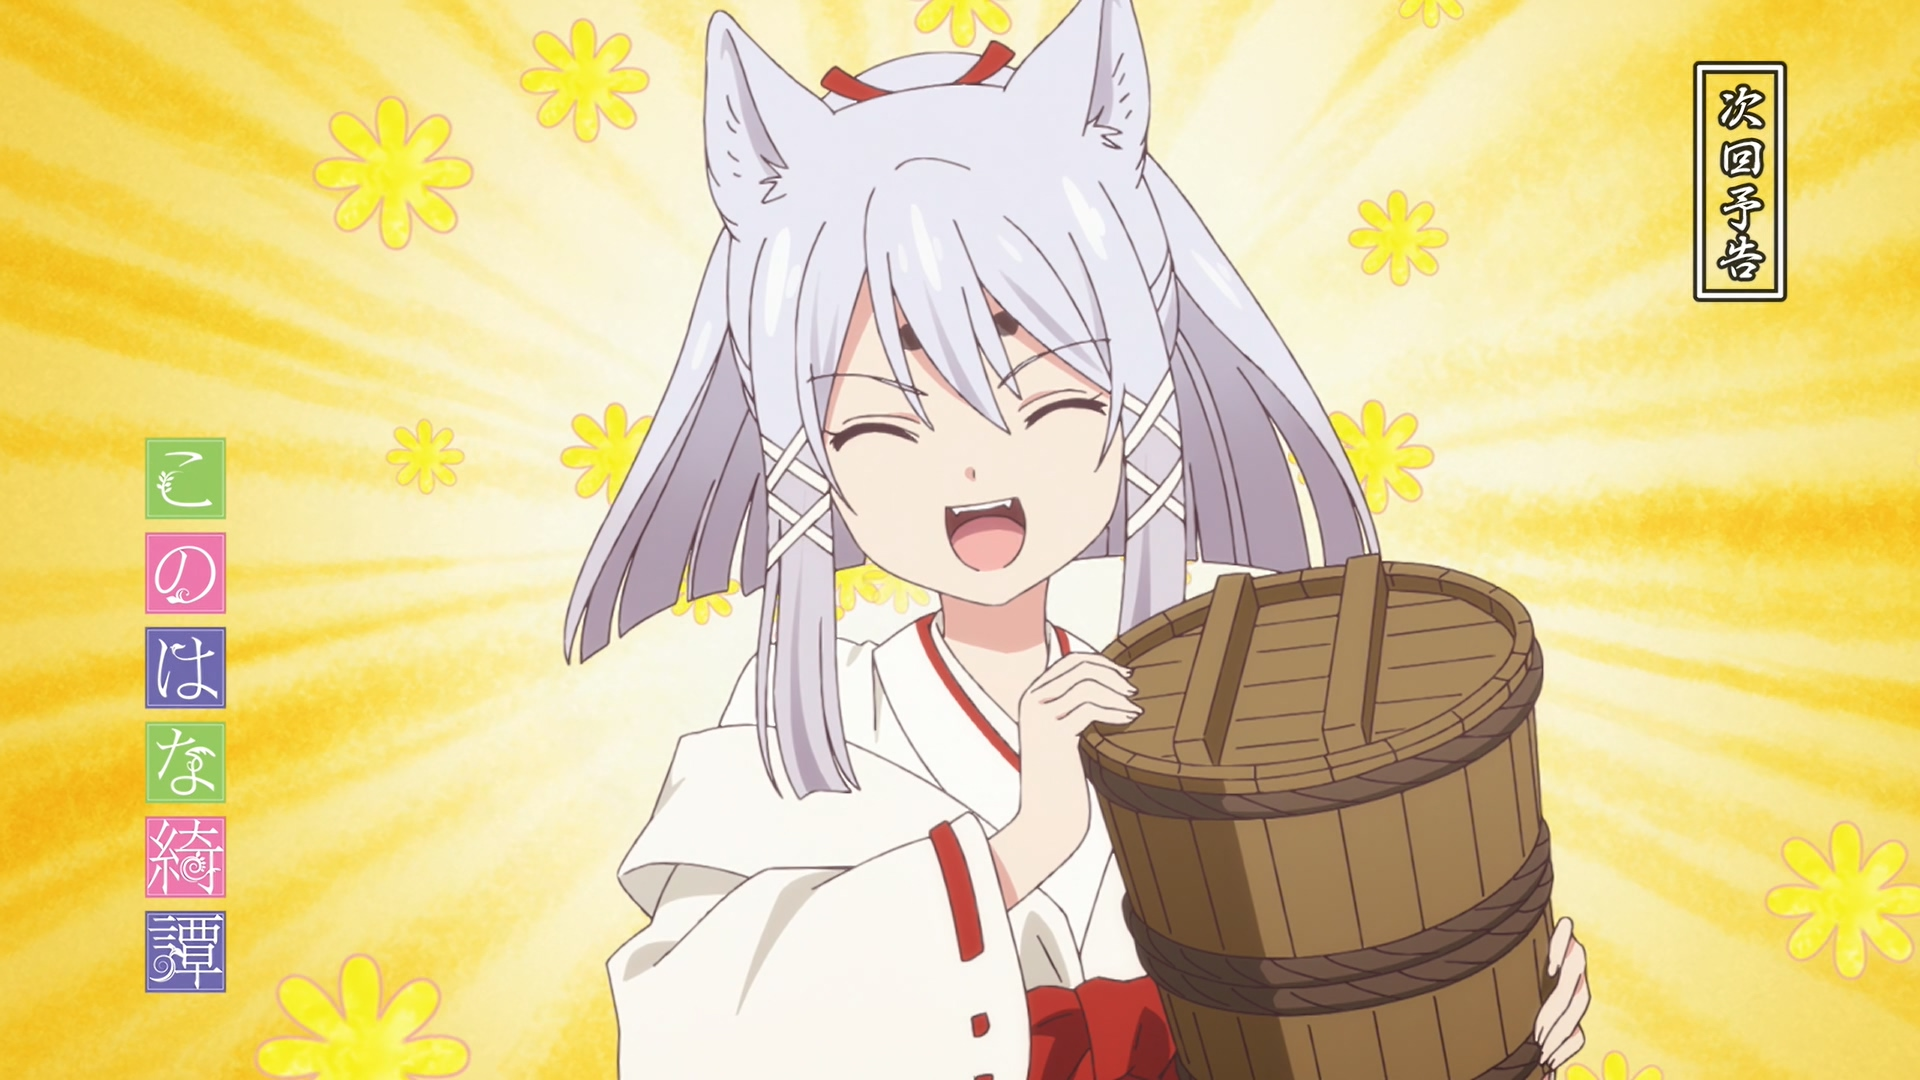柊: (560, 1, 1592, 1080)
